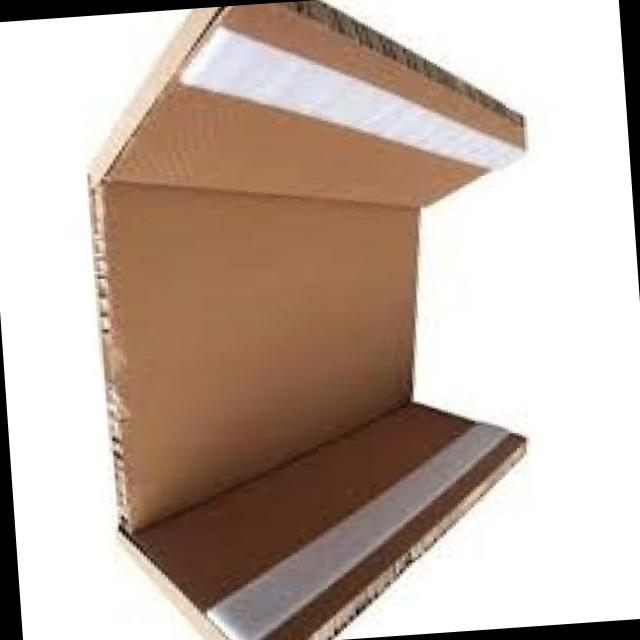cardboard paper: (87, 1, 521, 640)
